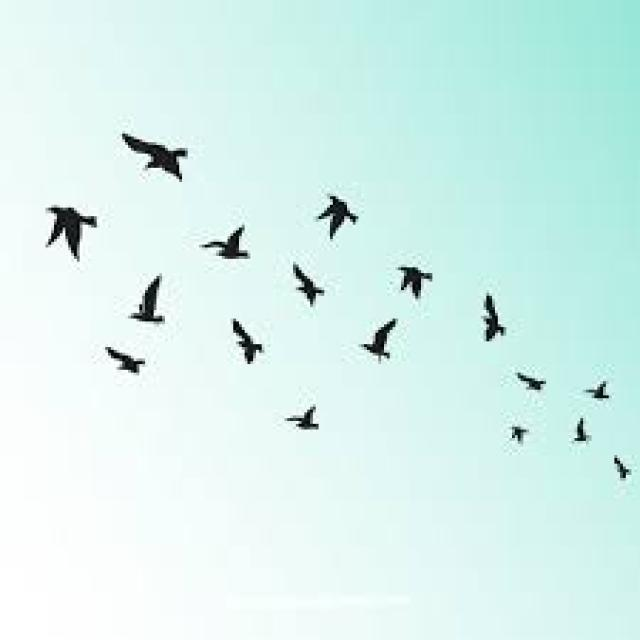bird: (100, 94, 208, 202), (7, 159, 107, 259), (180, 209, 274, 280), (86, 330, 170, 398), (312, 164, 374, 250), (384, 240, 449, 312), (117, 266, 182, 337), (465, 284, 528, 356), (216, 308, 282, 376), (350, 307, 418, 370), (274, 254, 340, 314), (272, 380, 328, 448), (574, 350, 624, 416), (597, 444, 640, 498), (500, 361, 558, 401), (563, 402, 603, 450), (495, 416, 538, 450)
